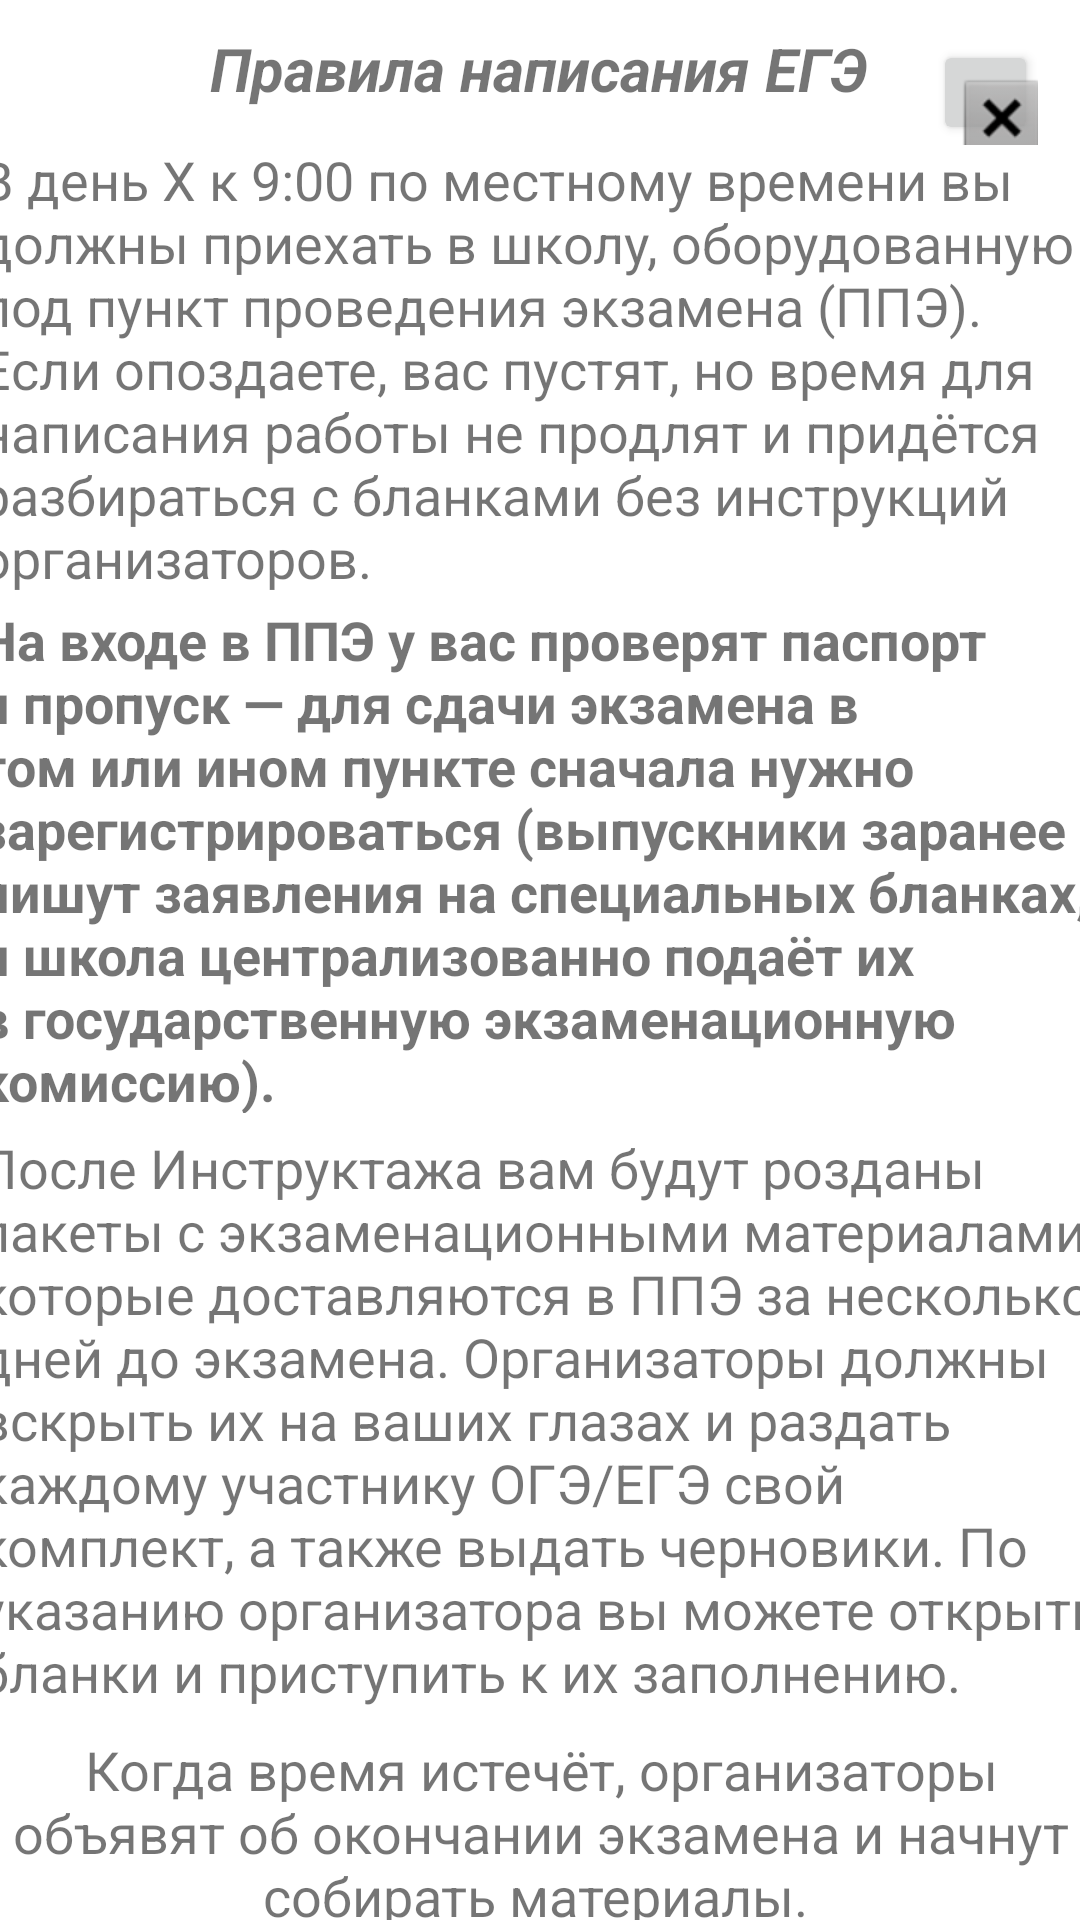

Named icons in this screenshot (1080*1920) and their centers, (x,y):
close clear cancel: (991,101)
